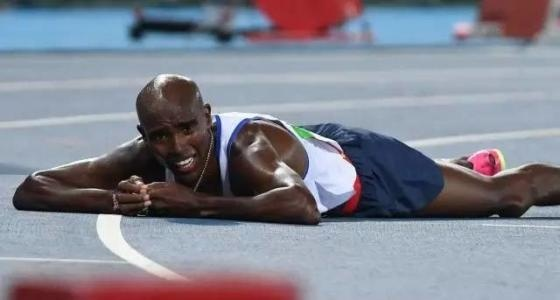falling: (2, 68, 560, 224)
